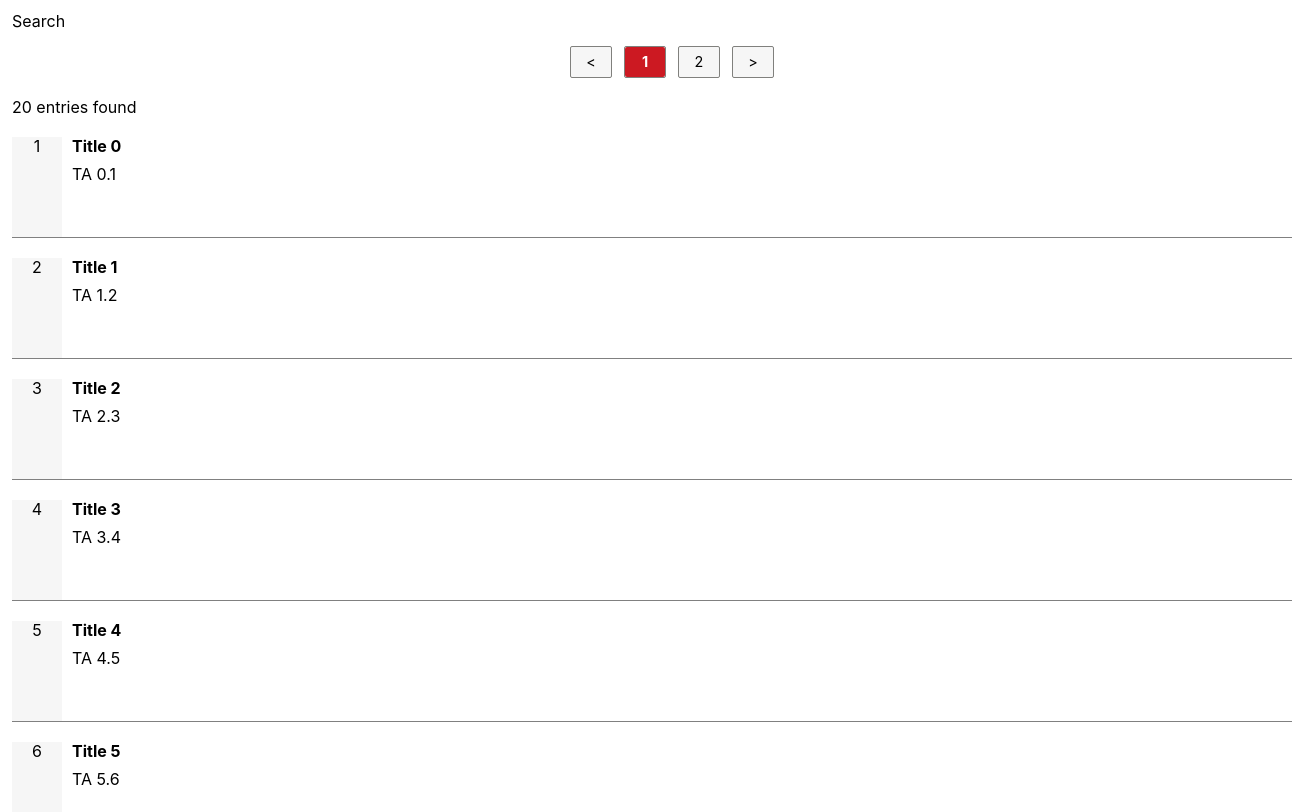
Test: CitationSearch › changes to next page
Click the button ">": (753, 62) [748,53,758,70]
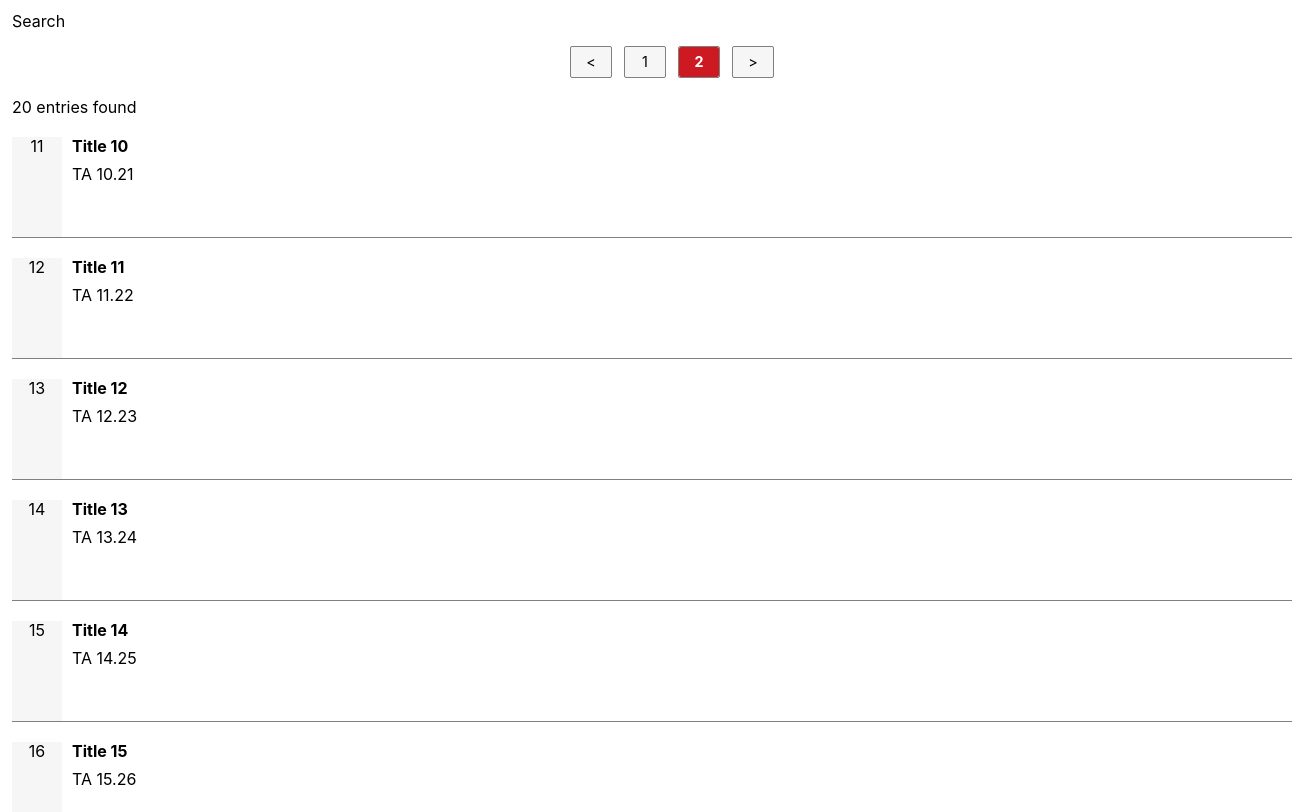
Now the link "Title 0" is gone
Now the text "Title 10" is shown, box [72,137,134,155]
